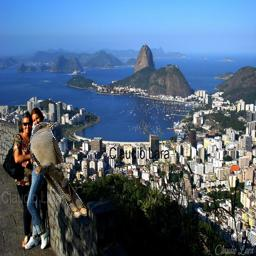Cuckoo: (30, 122, 87, 218)
